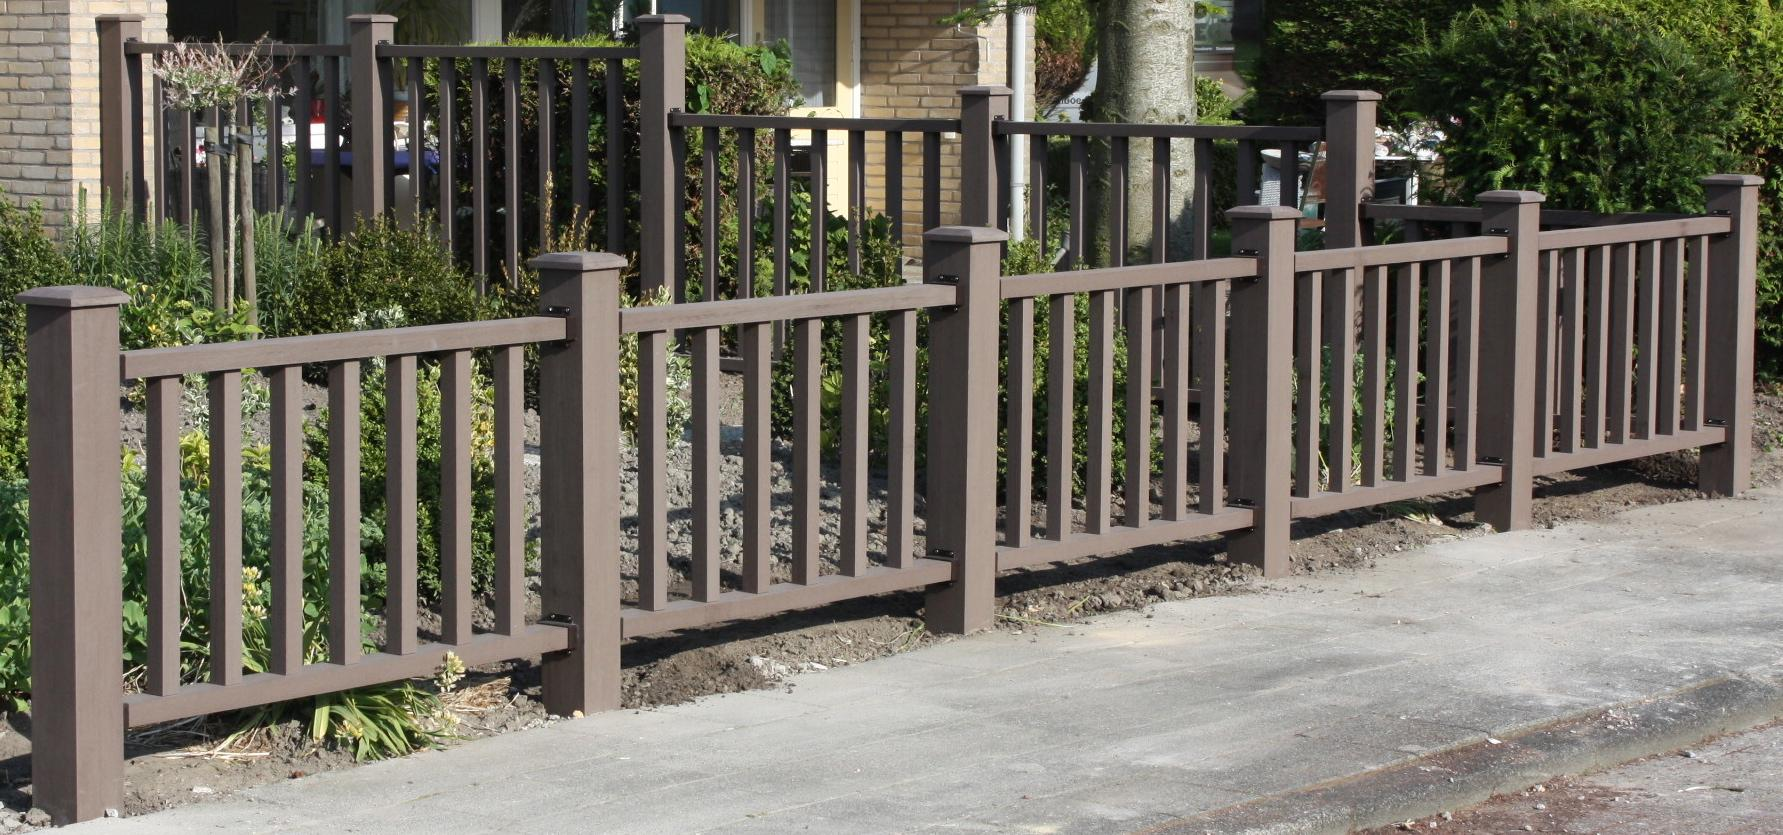obstacle: (258, 413, 1678, 725)
